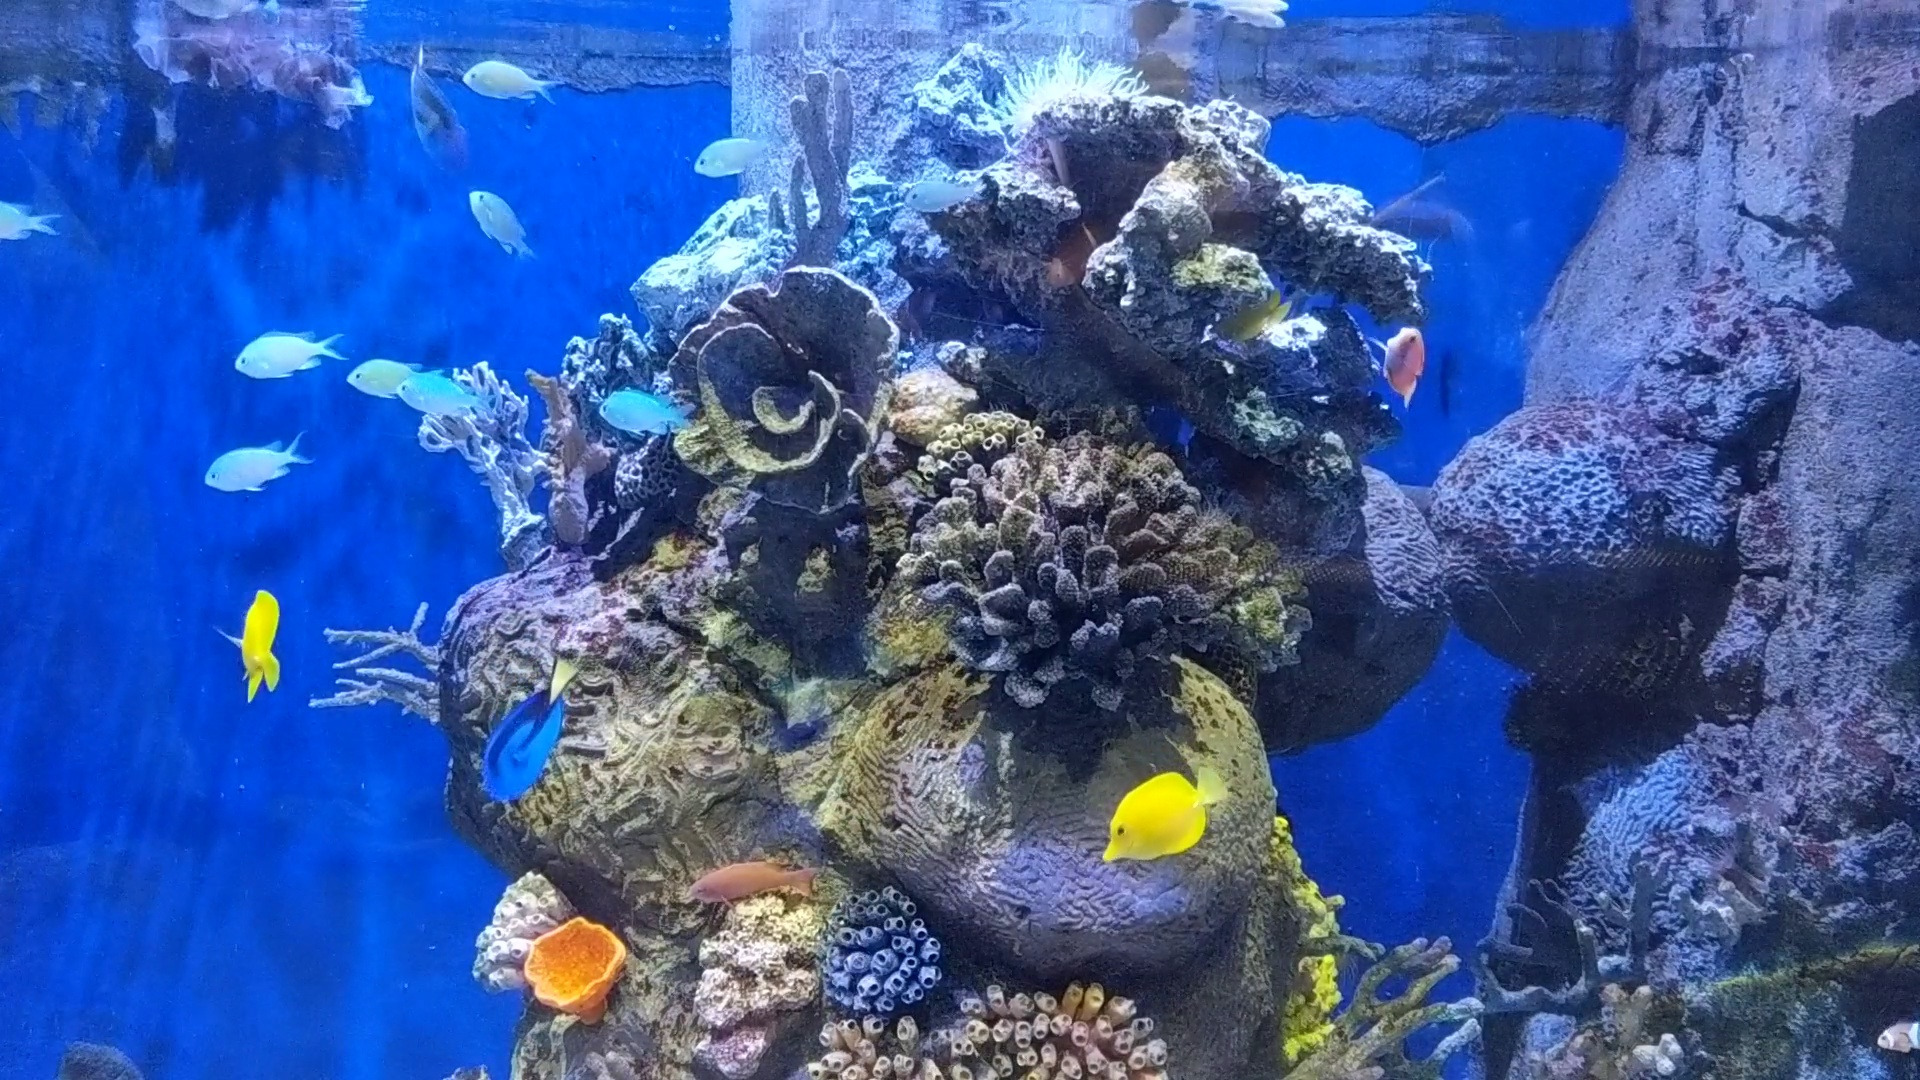blue tang surgeonfish: (460, 632, 582, 806), (402, 47, 476, 171)
damselfish: (189, 430, 322, 510), (392, 352, 495, 440), (218, 309, 344, 378), (456, 179, 545, 276), (666, 113, 781, 183), (334, 334, 434, 411), (454, 47, 554, 115), (597, 378, 694, 442)
pink fish: (1352, 309, 1440, 419)
saddle butterfly fish: (1093, 766, 1246, 866), (198, 574, 305, 690)
